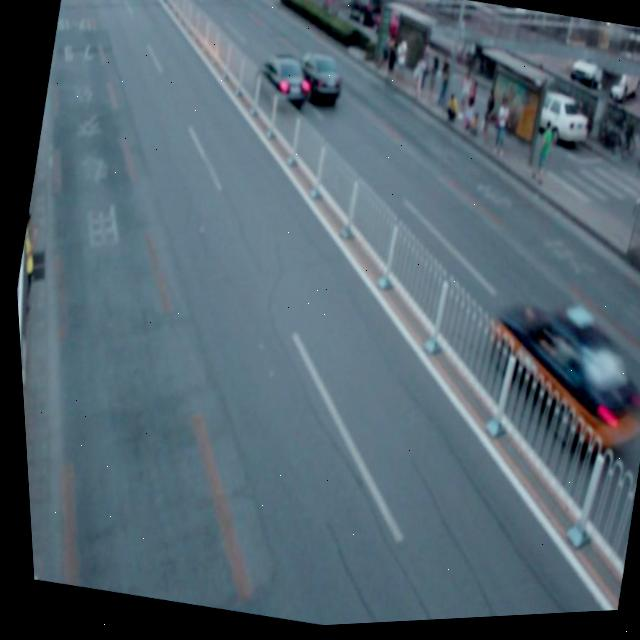car: (464, 291, 640, 475), (245, 51, 313, 120), (282, 48, 347, 115)
